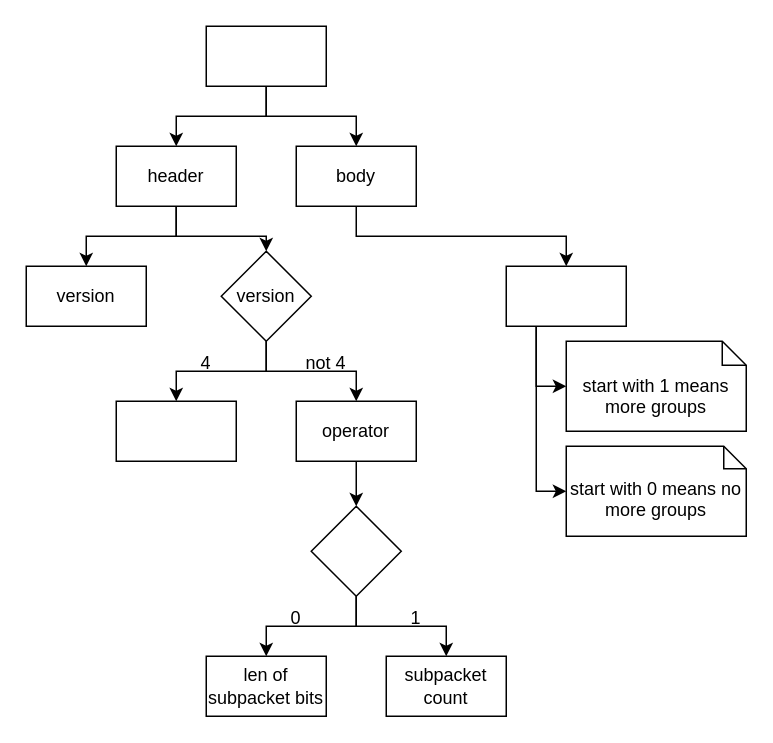
This 773x743 diagram has some shape labels left out. The shapes that lost their labels are listed below. From the top down, each one's box as (x1, y1, x2, y2) in pixels, then its label:
(205, 25, 326, 86): Packet
(505, 265, 626, 326): groups
(115, 400, 236, 461): literal value
(310, 505, 401, 596): length type
